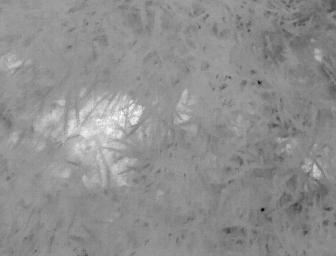landmine: (21, 73, 201, 194)
